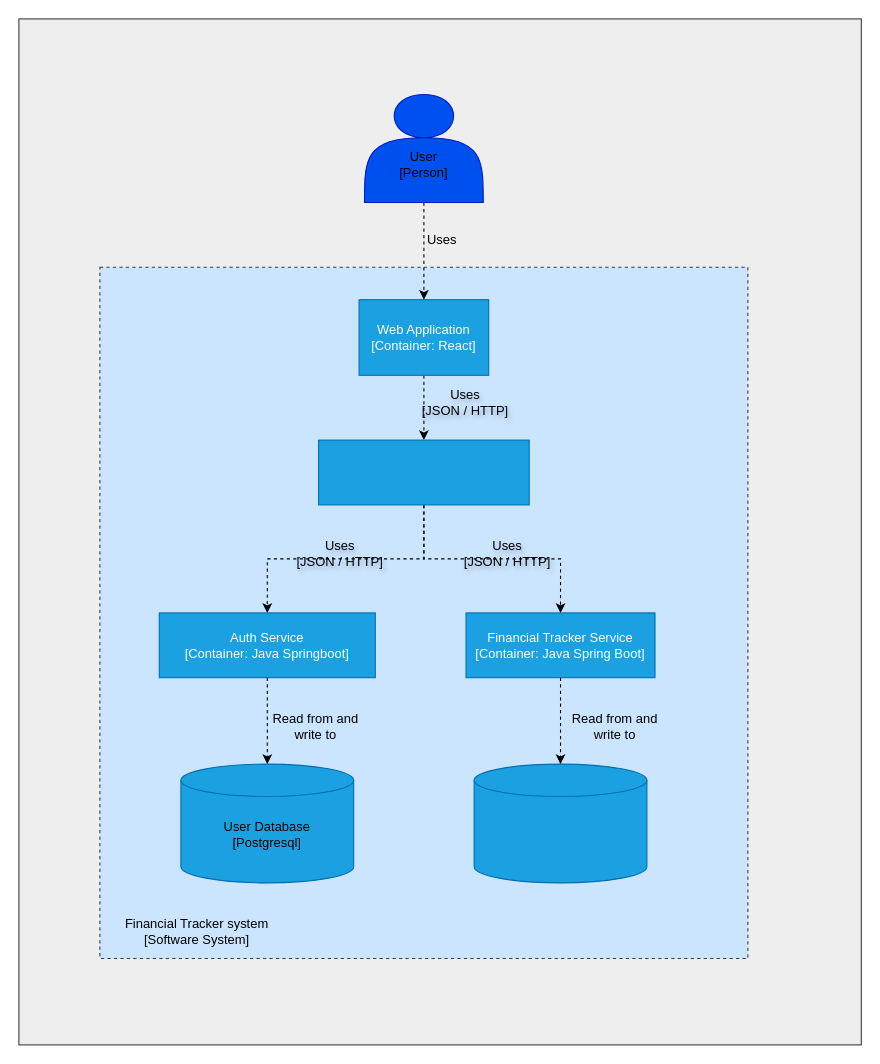
Some shapes in this 880 by 1064 pixel diagram are drawn without their labels. Each missing label, with the centre of its shape:
"API Gateway [Container: Java Springboot]" goes at point (423, 472).
"Transactions Database [Postgresql]" goes at point (560, 823).
